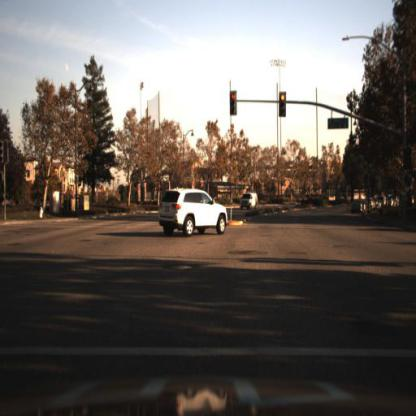car: (161, 182, 230, 241), (158, 188, 228, 239), (349, 197, 367, 218), (241, 192, 259, 211)
trafficLight-Red: (277, 87, 288, 123), (403, 146, 415, 174)
trafficLight-RedLeft: (229, 88, 239, 119)
